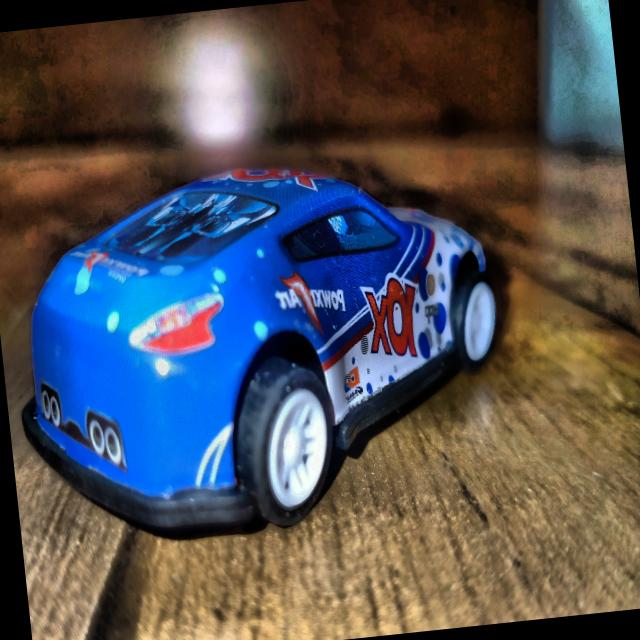Car: (0, 145, 515, 551)
